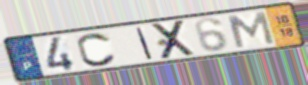4: (45, 34, 76, 73)
6: (193, 16, 231, 53)
C: (76, 31, 119, 68)
I: (135, 26, 156, 61)
M: (226, 10, 278, 50)
X: (150, 18, 199, 62)
